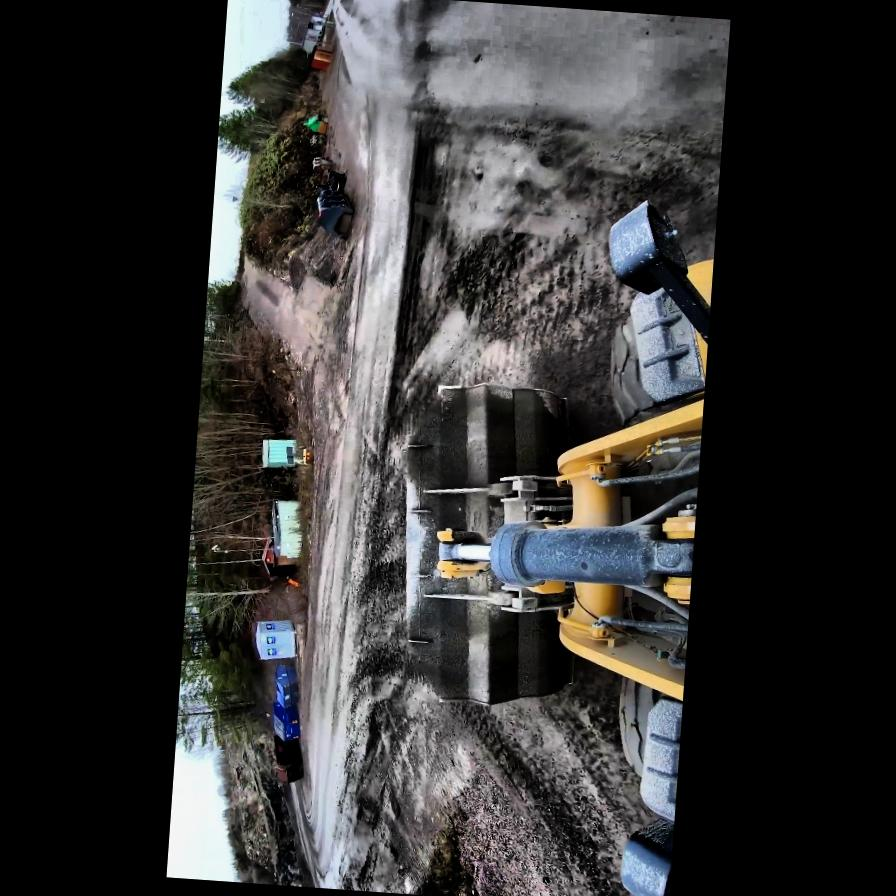anchor: (435, 527, 495, 580)
